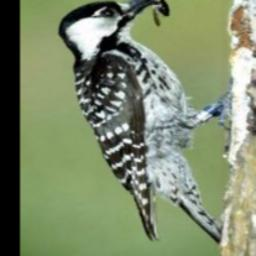Woodpecker: (56, 0, 222, 247)
